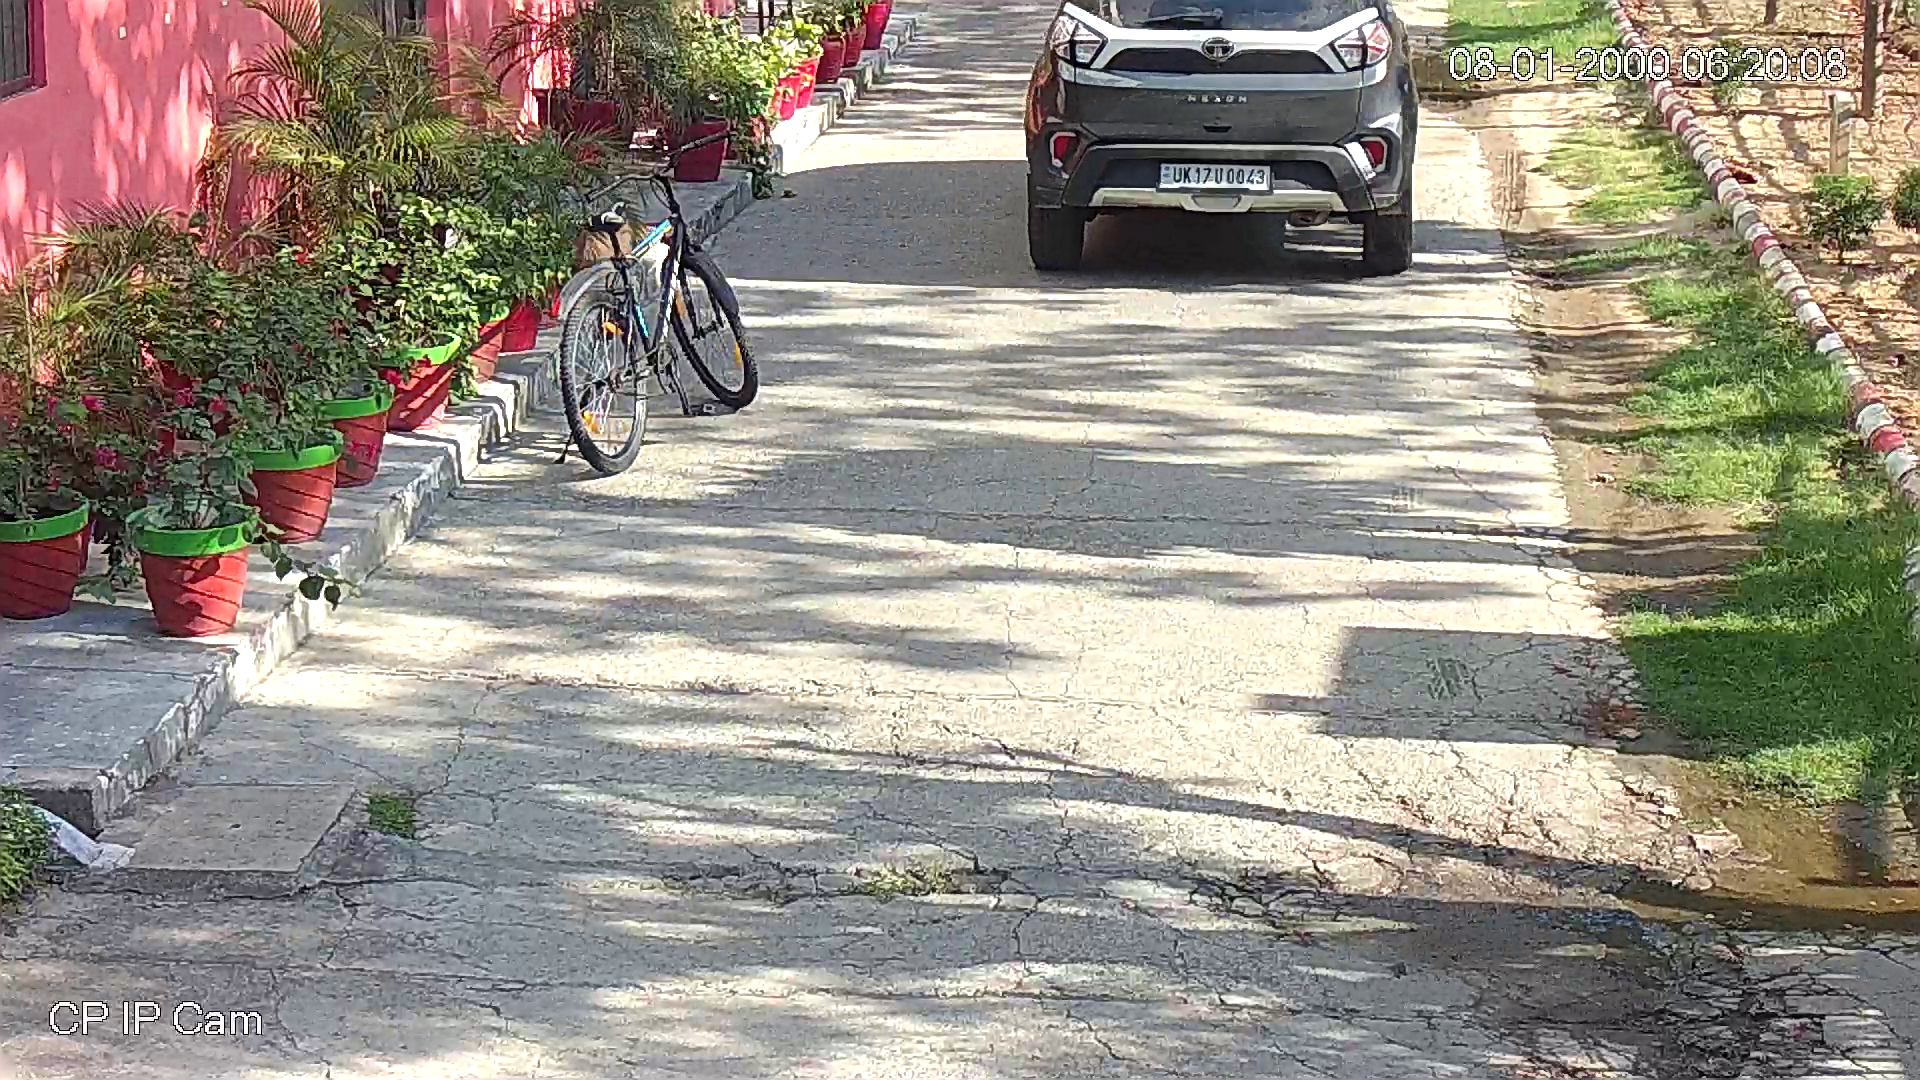plate: (1150, 154, 1279, 190)
